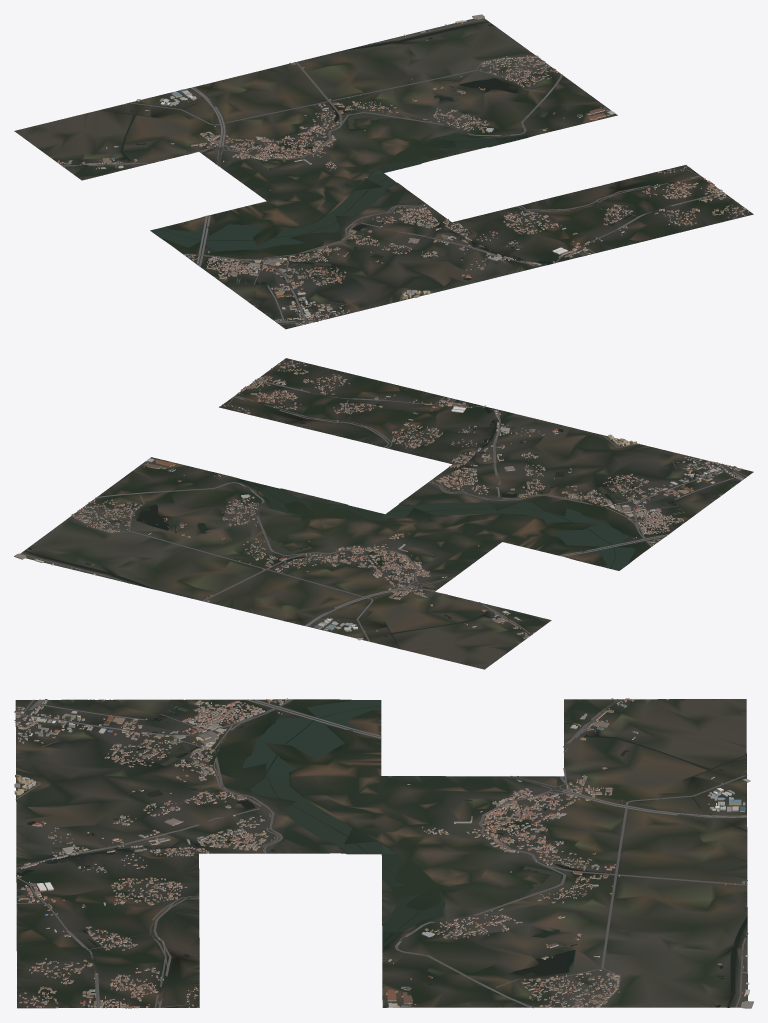
3 views of the same model, one above another, from view 1: azimuth 30°, elevation 25°; view 2: azimuth 150°, elevation 25°; view 3: azimuth 270°, elevation 25° (orthographic). The views are drawn at different scales.
Parts seen in each view (by area): view 1: ground, buildings, water, roads; view 2: ground, buildings, water, roads; view 3: ground, buildings, water, roads.
Boxes of the visible parts, x1,y1,x2,y2 form: ground: (14, 18, 753, 329); buildings: (57, 14, 748, 325); water: (99, 22, 697, 308); roads: (61, 19, 723, 324); ground: (20, 358, 753, 669); buildings: (14, 360, 742, 640); water: (24, 398, 725, 648); roads: (21, 379, 747, 641); ground: (15, 699, 747, 1008); buildings: (14, 698, 753, 1008); water: (17, 699, 747, 1007); roads: (14, 699, 748, 1008).
Bounding box in the file's own units: 5624 × 39.5 × 5677.
